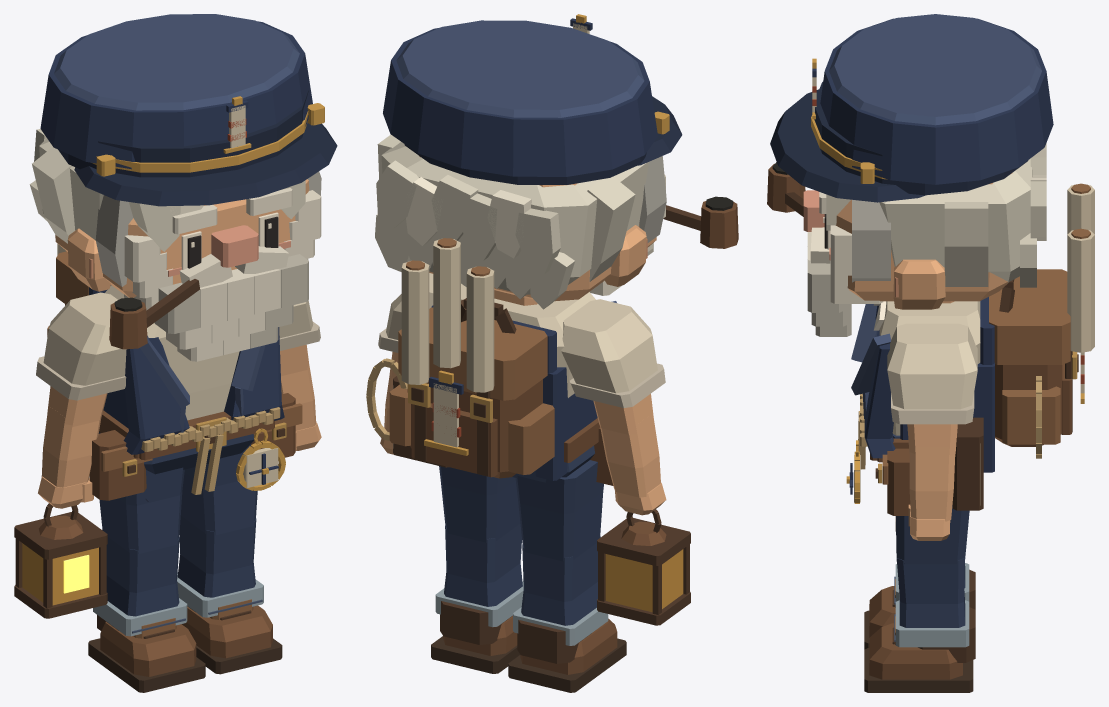
Rendered from lighthouse_keeper.glb.
3 views of the same model, side by side, from view 1: azimuth 30°, elevation 25°; view 2: azimuth 150°, elevation 25°; view 3: azimuth 270°, elevation 25° (orthographic).
Visible parts, largest first — view 1: lighthouse_keeper__Hat_lighthouse_keeper_navy_light, lighthouse_keeper__Hat_lighthouse_keeper_navy_dark, lighthouse_keeper__Beard_lighthouse_keeper_whitehair, lighthouse_keeper__Hat_lighthouse_keeper_navy, lighthouse_keeper__Coat_lighthouse_keeper_navy, lighthouse_keeper__Head_lighthouse_keeper_hair, lighthouse_keeper__Arm_L_lighthouse_keeper_shirt, lighthouse_keeper__Thigh_L_lighthouse_keeper_denim, lighthouse_keeper__Lantern_lighthouse_keeper_leather_dark, lighthouse_keeper__Shin_R_lighthouse_keeper_denim, lighthouse_keeper__Head_lighthouse_keeper_skin, lighthouse_keeper__Shin_L_lighthouse_keeper_denim (+39 smaller); view 2: lighthouse_keeper__Head_lighthouse_keeper_hair, lighthouse_keeper__Hat_lighthouse_keeper_navy_light, lighthouse_keeper__Hat_lighthouse_keeper_navy, lighthouse_keeper__Charts_lighthouse_keeper_cream, lighthouse_keeper__Backpack_lighthouse_keeper_leather_light, lighthouse_keeper__Arm_L_lighthouse_keeper_shirt, lighthouse_keeper__Thigh_L_lighthouse_keeper_denim, lighthouse_keeper__Shin_R_lighthouse_keeper_denim, lighthouse_keeper__Shin_L_lighthouse_keeper_denim, lighthouse_keeper__Lantern_lighthouse_keeper_leather_dark, lighthouse_keeper__Thigh_R_lighthouse_keeper_denim, lighthouse_keeper__Backpack_lighthouse_keeper_leather (+28 smaller); view 3: lighthouse_keeper__Hat_lighthouse_keeper_navy_light, lighthouse_keeper__Head_lighthouse_keeper_hair, lighthouse_keeper__Hat_lighthouse_keeper_navy, lighthouse_keeper__Backpack_lighthouse_keeper_leather_light, lighthouse_keeper__Hat_lighthouse_keeper_navy_dark, lighthouse_keeper__Arm_R_lighthouse_keeper_shirt, lighthouse_keeper__Coat_lighthouse_keeper_navy, lighthouse_keeper__Head_lighthouse_keeper_skin, lighthouse_keeper__Shin_R_lighthouse_keeper_denim, lighthouse_keeper__Charts_lighthouse_keeper_cream, lighthouse_keeper__Foot_R_lighthouse_keeper_leather, lighthouse_keeper__Forearm_R_lighthouse_keeper_skin (+20 smaller).
Boxes of the visible parts, left/top/right/bottom form: lighthouse_keeper__Hat_lighthouse_keeper_navy_light: left=54, top=14, right=299, bottom=110; lighthouse_keeper__Hat_lighthouse_keeper_navy_dark: left=58, top=90, right=337, bottom=206; lighthouse_keeper__Beard_lighthouse_keeper_whitehair: left=124, top=190, right=321, bottom=361; lighthouse_keeper__Hat_lighthouse_keeper_navy: left=40, top=21, right=312, bottom=169; lighthouse_keeper__Coat_lighthouse_keeper_navy: left=89, top=285, right=284, bottom=454; lighthouse_keeper__Head_lighthouse_keeper_hair: left=29, top=129, right=305, bottom=251; lighthouse_keeper__Arm_L_lighthouse_keeper_shirt: left=43, top=292, right=126, bottom=385; lighthouse_keeper__Thigh_L_lighthouse_keeper_denim: left=99, top=467, right=184, bottom=553; lighthouse_keeper__Lantern_lighthouse_keeper_leather_dark: left=14, top=503, right=107, bottom=618; lighthouse_keeper__Shin_R_lighthouse_keeper_denim: left=177, top=516, right=256, bottom=597; lighthouse_keeper__Head_lighthouse_keeper_skin: left=55, top=179, right=309, bottom=297; lighthouse_keeper__Shin_L_lighthouse_keeper_denim: left=106, top=537, right=179, bottom=616; lighthouse_keeper__Head_lighthouse_keeper_hair: left=375, top=134, right=648, bottom=309; lighthouse_keeper__Hat_lighthouse_keeper_navy_light: left=396, top=20, right=644, bottom=117; lighthouse_keeper__Hat_lighthouse_keeper_navy: left=383, top=18, right=657, bottom=176; lighthouse_keeper__Charts_lighthouse_keeper_cream: left=401, top=239, right=494, bottom=392; lighthouse_keeper__Backpack_lighthouse_keeper_leather_light: left=389, top=307, right=554, bottom=474; lighthouse_keeper__Arm_L_lighthouse_keeper_shirt: left=561, top=299, right=657, bottom=393; lighthouse_keeper__Thigh_L_lighthouse_keeper_denim: left=515, top=460, right=603, bottom=561; lighthouse_keeper__Shin_R_lighthouse_keeper_denim: left=444, top=524, right=522, bottom=606; lighthouse_keeper__Shin_L_lighthouse_keeper_denim: left=521, top=536, right=600, bottom=625; lighthouse_keeper__Lantern_lighthouse_keeper_leather_dark: left=597, top=509, right=690, bottom=625; lighthouse_keeper__Thigh_R_lighthouse_keeper_denim: left=439, top=466, right=520, bottom=542; lighthouse_keeper__Backpack_lighthouse_keeper_leather: left=407, top=379, right=542, bottom=478; lighthouse_keeper__Hat_lighthouse_keeper_navy_light: left=829, top=14, right=1041, bottom=125; lighthouse_keeper__Head_lighthouse_keeper_hair: left=826, top=146, right=1046, bottom=287; lighthouse_keeper__Hat_lighthouse_keeper_navy: left=812, top=18, right=1053, bottom=184; lighthouse_keeper__Backpack_lighthouse_keeper_leather_light: left=989, top=269, right=1070, bottom=444; lighthouse_keeper__Hat_lighthouse_keeper_navy_dark: left=770, top=81, right=1028, bottom=202; lighthouse_keeper__Arm_R_lighthouse_keeper_shirt: left=887, top=323, right=977, bottom=409; lighthouse_keeper__Coat_lighthouse_keeper_navy: left=864, top=297, right=994, bottom=472; lighthouse_keeper__Head_lighthouse_keeper_skin: left=835, top=173, right=1012, bottom=309; lighthouse_keeper__Shin_R_lighthouse_keeper_denim: left=896, top=558, right=965, bottom=627; lighthouse_keeper__Charts_lighthouse_keeper_cream: left=1067, top=185, right=1094, bottom=352; lighthouse_keeper__Foot_R_lighthouse_keeper_leather: left=869, top=623, right=962, bottom=679; lighthouse_keeper__Forearm_R_lighthouse_keeper_skin: left=909, top=447, right=955, bottom=521.
Size of the model in its own units: 0.8193 by 1.63 by 0.813.
